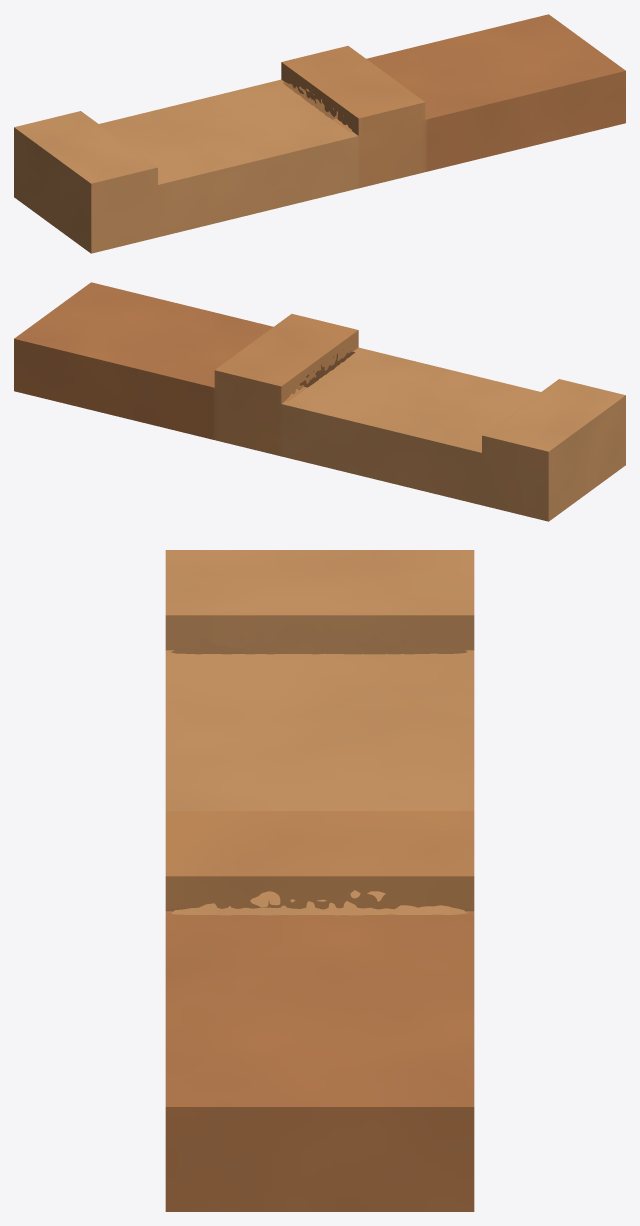
3 renders of one model, top to bottom at view 1: azimuth 30°, elevation 25°; view 2: azimuth 150°, elevation 25°; view 3: azimuth 270°, elevation 25°, orthographic. The views are drawn at different scales.
Parts seen in each view (by area): view 1: ss15-short-sandstone-coping; view 2: ss15-short-sandstone-coping; view 3: ss15-short-sandstone-coping.
Part boxes in pixels (<box>): ss15-short-sandstone-coping: <box>14,14,625,253</box>; ss15-short-sandstone-coping: <box>14,282,625,521</box>; ss15-short-sandstone-coping: <box>165,550,474,1211</box>.
Size of the model in its own units: 200 by 25 by 50.
